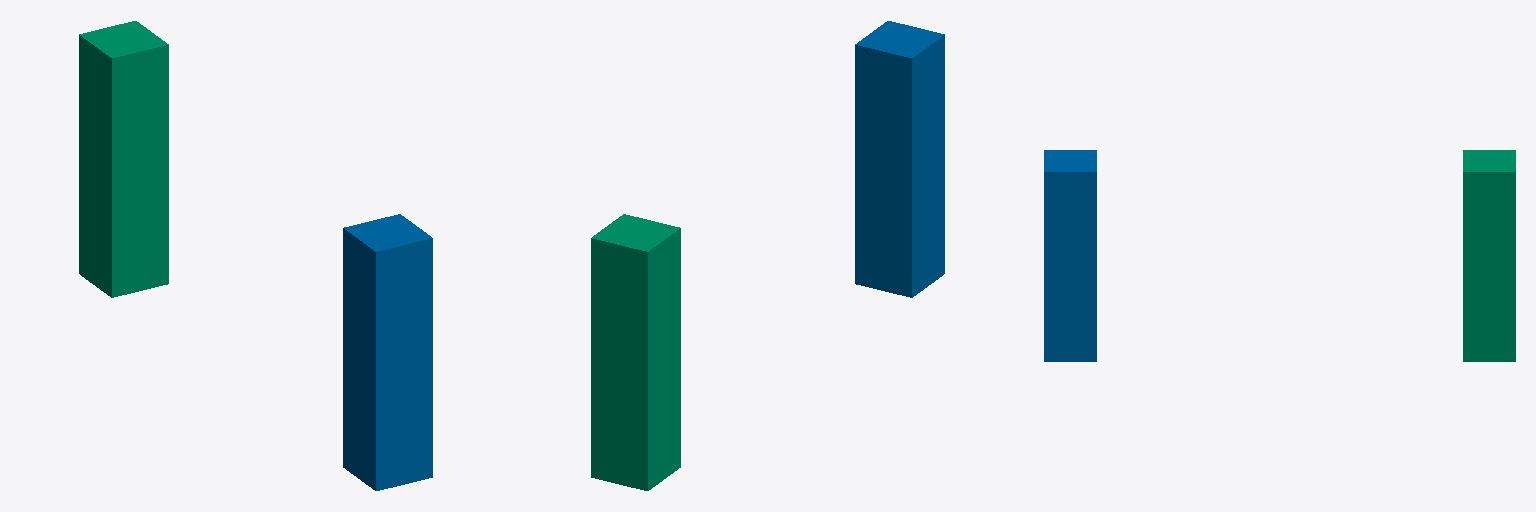
URDF robot description (two_robots_world):
<?xml version="1.0"?>
<robot name="two_robots_world">
  <link name="world"/>
  <link name="left_base">
    <inertial>
      <mass value="1"/>
      <inertia ixx="0.01" iyy="0.01" izz="0.01" ixy="0" ixz="0" iyz="0"/>
    </inertial>
  </link>
  <link name="left_arm">
    <inertial>
      <mass value="1"/>
      <inertia ixx="0.01" iyy="0.01" izz="0.01" ixy="0" ixz="0" iyz="0"/>
    </inertial>
    <visual>
      <geometry>
        <box size="0.05 0.05 0.2"/>
      </geometry>
    </visual>
  </link>
  <link name="right_base">
    <inertial>
      <mass value="1"/>
      <inertia ixx="0.01" iyy="0.01" izz="0.01" ixy="0" ixz="0" iyz="0"/>
    </inertial>
  </link>
  <link name="right_arm">
    <inertial>
      <mass value="1"/>
      <inertia ixx="0.01" iyy="0.01" izz="0.01" ixy="0" ixz="0" iyz="0"/>
    </inertial>
    <visual>
      <geometry>
        <box size="0.05 0.05 0.2"/>
      </geometry>
    </visual>
  </link>

  <joint name="left_fixed" type="fixed">
    <origin xyz="0 0.2 0"/>
    <parent link="world"/>
    <child link="left_base"/>
  </joint>
  <joint name="left_arm_joint" type="revolute">
    <origin xyz="0 0 0.2"/>
    <parent link="left_base"/>
    <child link="left_arm"/>
    <axis xyz="0 0 1"/>
    <limit lower="-1" upper="1" effort="1" velocity="1"/>
  </joint>
  <joint name="right_fixed" type="fixed">
    <origin xyz="0 -0.2 0"/>
    <parent link="world"/>
    <child link="right_base"/>
  </joint>
  <joint name="right_arm_joint" type="revolute">
    <origin xyz="0 0 0.2"/>
    <parent link="right_base"/>
    <child link="right_arm"/>
    <axis xyz="0 0 1"/>
    <limit lower="-1" upper="1" effort="1" velocity="1"/>
  </joint>
</robot>

--- Render facts (derived) ---
The picture shows the robot from 3 angles, left to right: view 1: azimuth 30°, elevation 25°; view 2: azimuth 150°, elevation 25°; view 3: azimuth 270°, elevation 25°; orthographic projection.
Robot: two_robots_world — 5 links, 4 joints (2 revolute, 2 fixed); root link world; default pose: all joints at 0.
Links seen in each view (by area): view 1: left_arm, right_arm; view 2: left_arm, right_arm; view 3: left_arm, right_arm.
Link boxes in pixels (bbox=[...]): left_arm: bbox=[79, 21, 168, 297]; right_arm: bbox=[343, 214, 432, 490]; left_arm: bbox=[591, 214, 680, 490]; right_arm: bbox=[855, 21, 944, 297]; left_arm: bbox=[1463, 150, 1515, 361]; right_arm: bbox=[1044, 150, 1096, 361].
Size in the robot's own frame: 0.05 by 0.45 by 0.2 metres.
Geometry: primitives only (box / cylinder / sphere), no mesh files.
